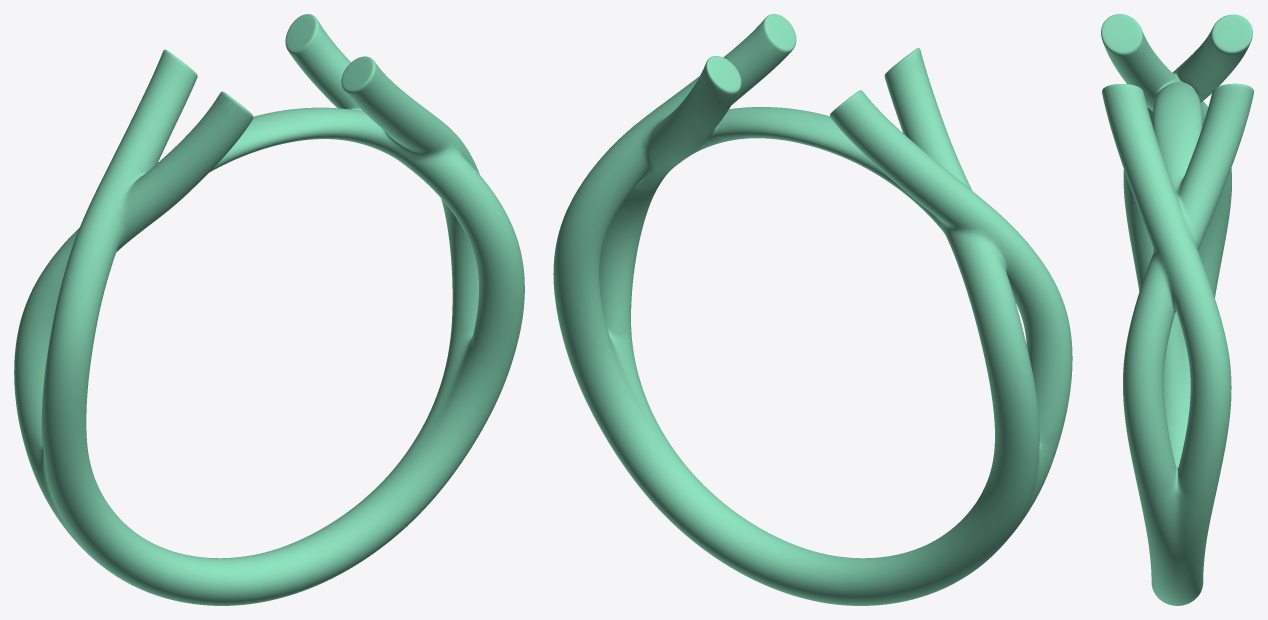
3 renders of one model, left to right at view 1: azimuth 30°, elevation 25°; view 2: azimuth 150°, elevation 25°; view 3: azimuth 270°, elevation 25°, orthographic. The views are drawn at different scales.
Visible parts, largest first — view 1: Metal02; view 2: Metal02; view 3: Metal02.
Boxes of the visible parts, x1,y1,x2,y2 form: Metal02: [14, 14, 524, 605]; Metal02: [553, 14, 1072, 605]; Metal02: [1101, 14, 1253, 605].
Size of the model in its own units: 21.06 by 22.74 by 5.93.
